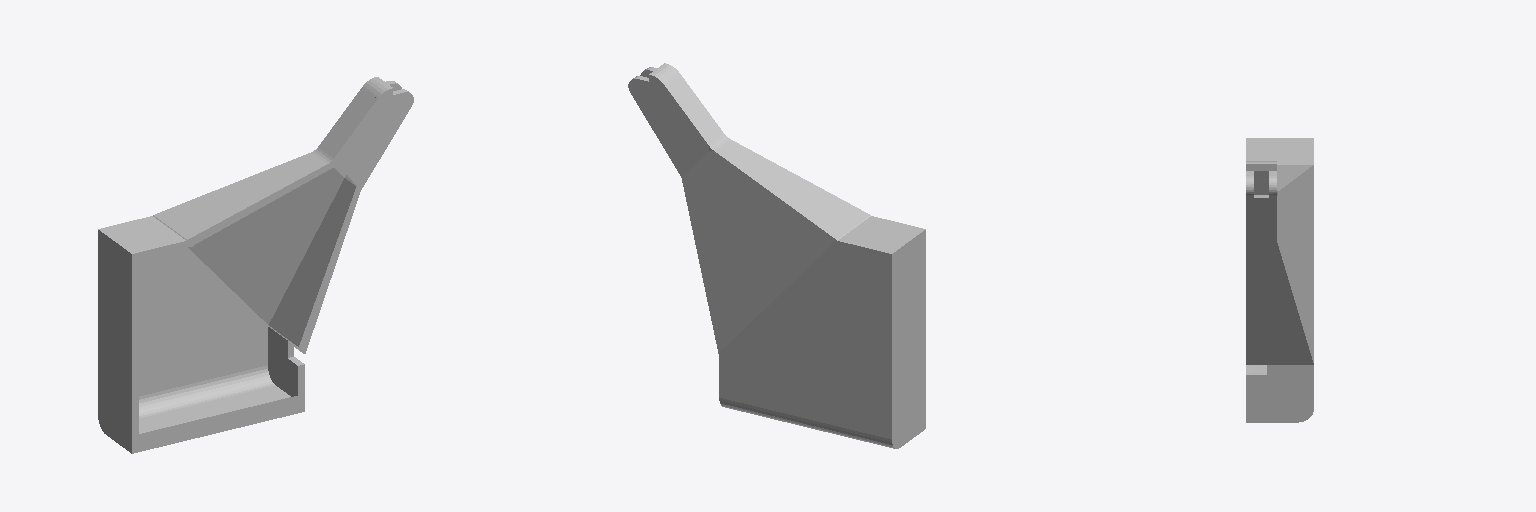
File: Encaixe (Nova PM sensor) passagem de ar.obj
3 renders of one model, left to right at view 1: azimuth 30°, elevation 25°; view 2: azimuth 150°, elevation 25°; view 3: azimuth 270°, elevation 25°, orthographic.
Size of the model in its own units: 62.03 by 63.5 by 13.